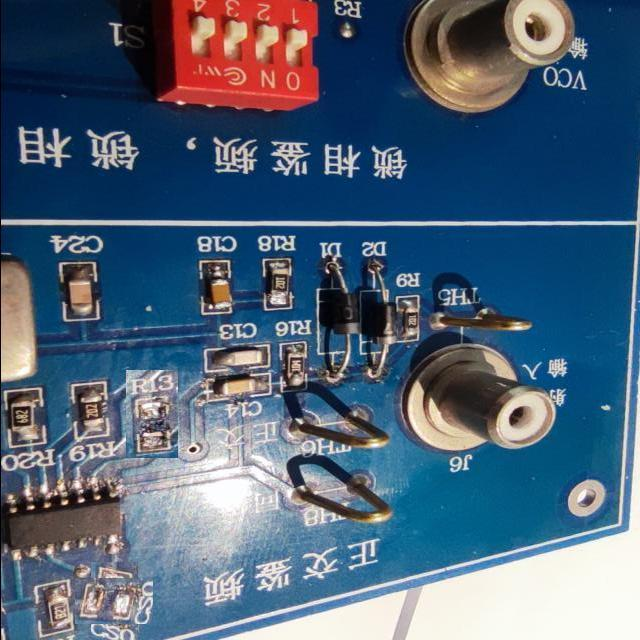miss_welding: (126, 370, 178, 458), (83, 570, 146, 632)
